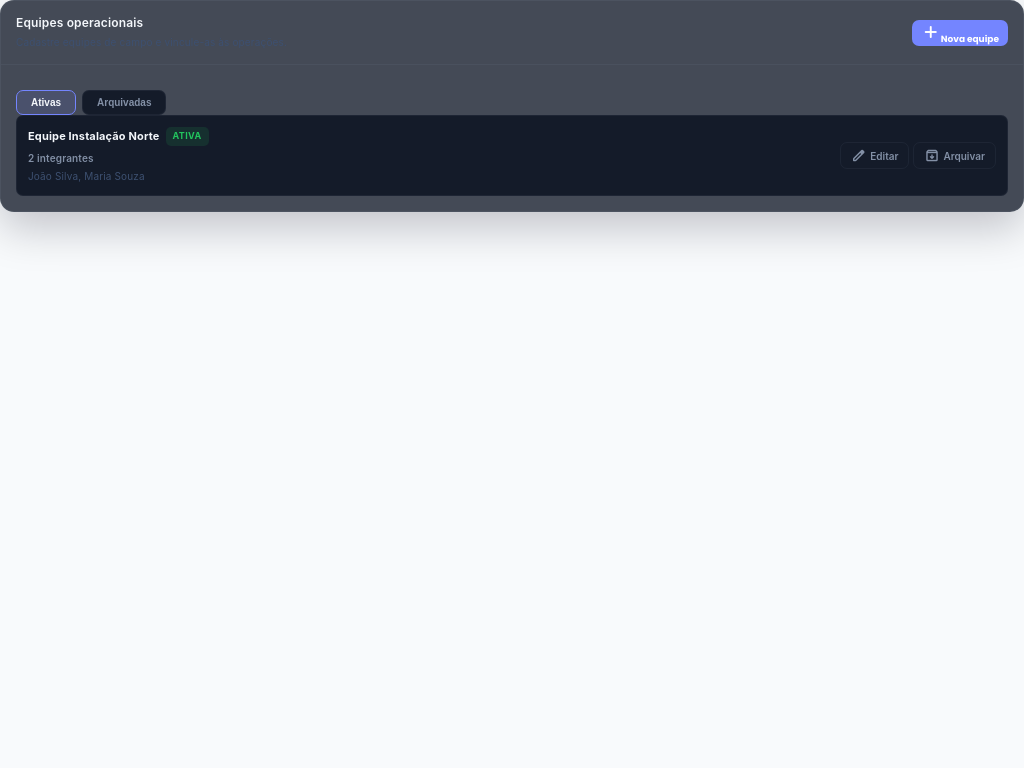
Scenario: OperationTeamsPanel › arquiva uma equipe ativa via modal de confirmação
Later steps or results of the test are not shown.
Click the button "Arquivar". click: (955, 156)
box: [914,142,996,169]
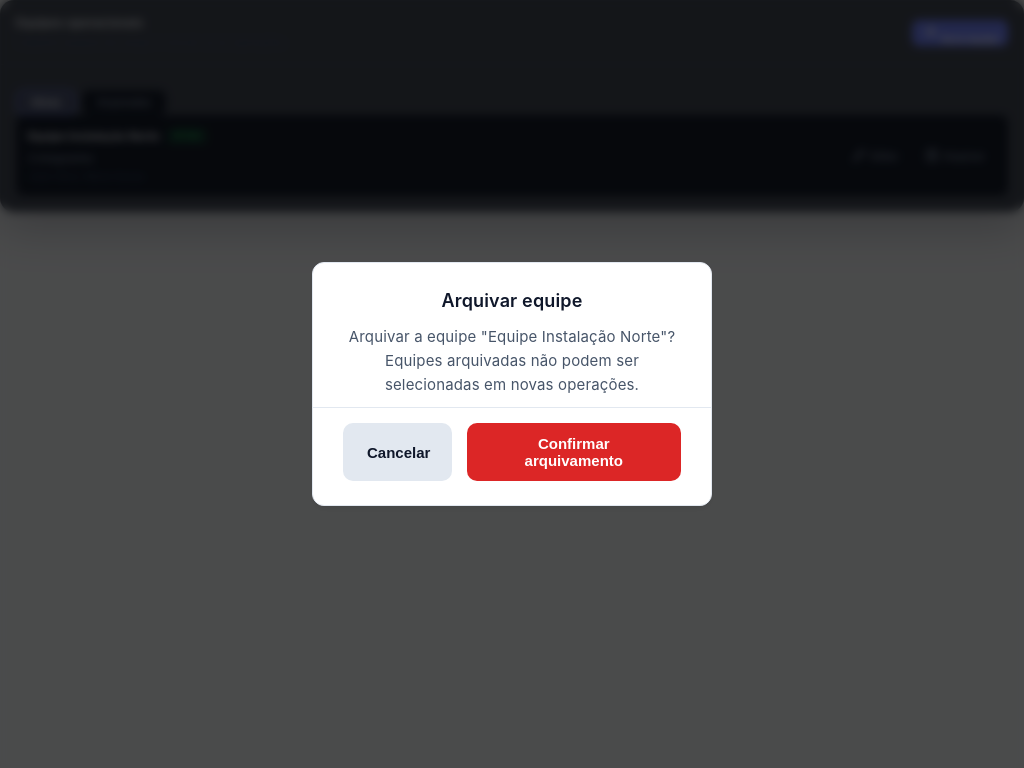
Expected: the button with test id "confirmation-modal-confirm" is shown, [466,423,681,481]
